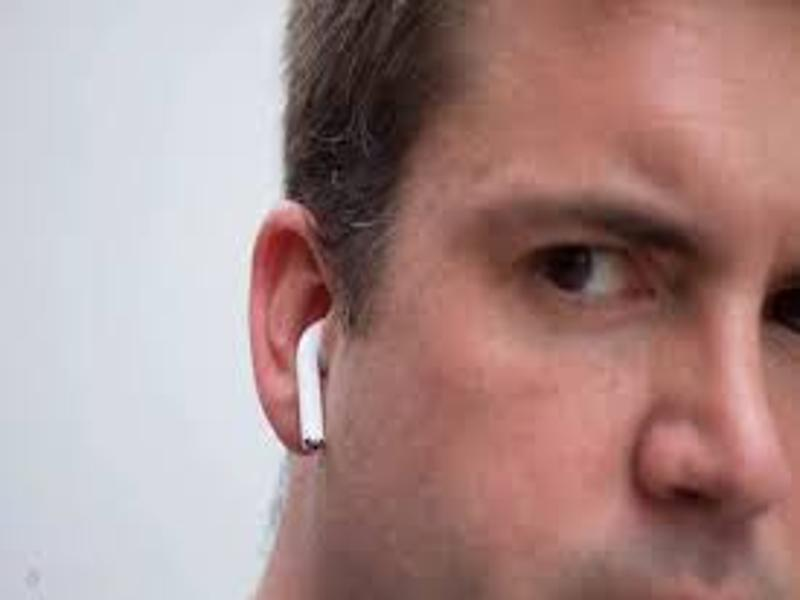headphone: (293, 306, 337, 452)
